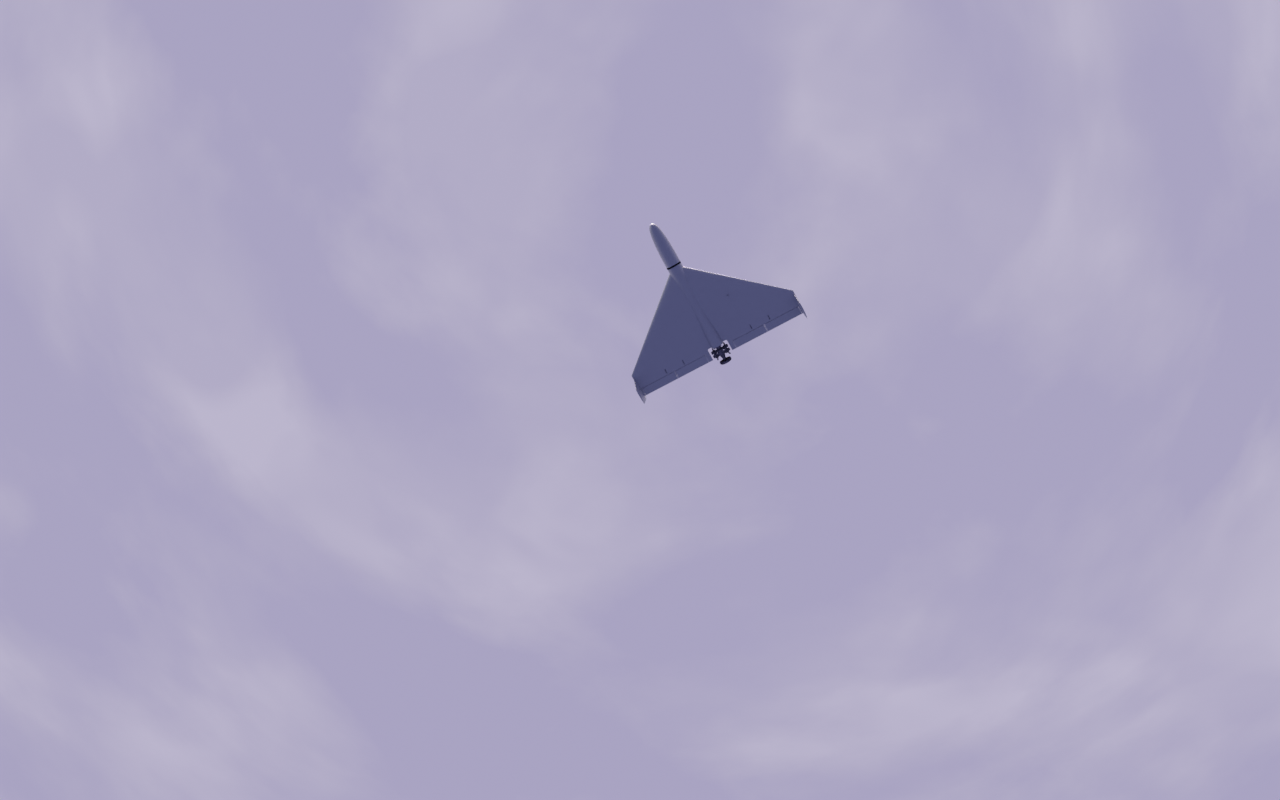shahed: (632, 224, 809, 406)
